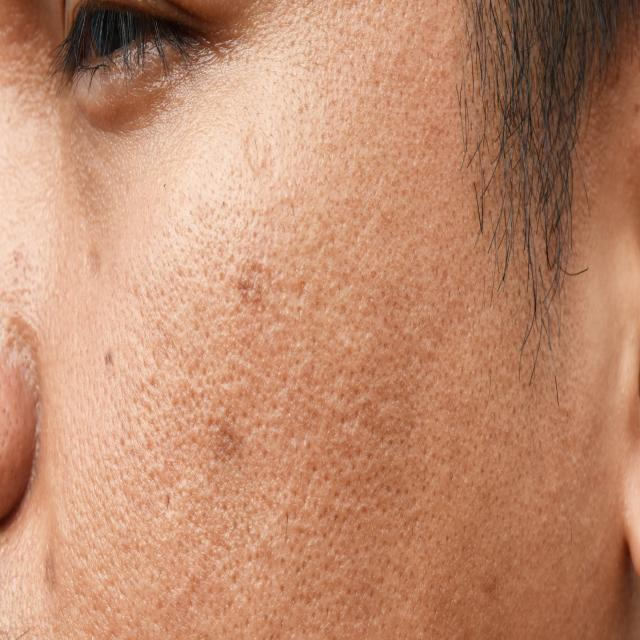Englarged-Pores: (67, 204, 397, 531)
